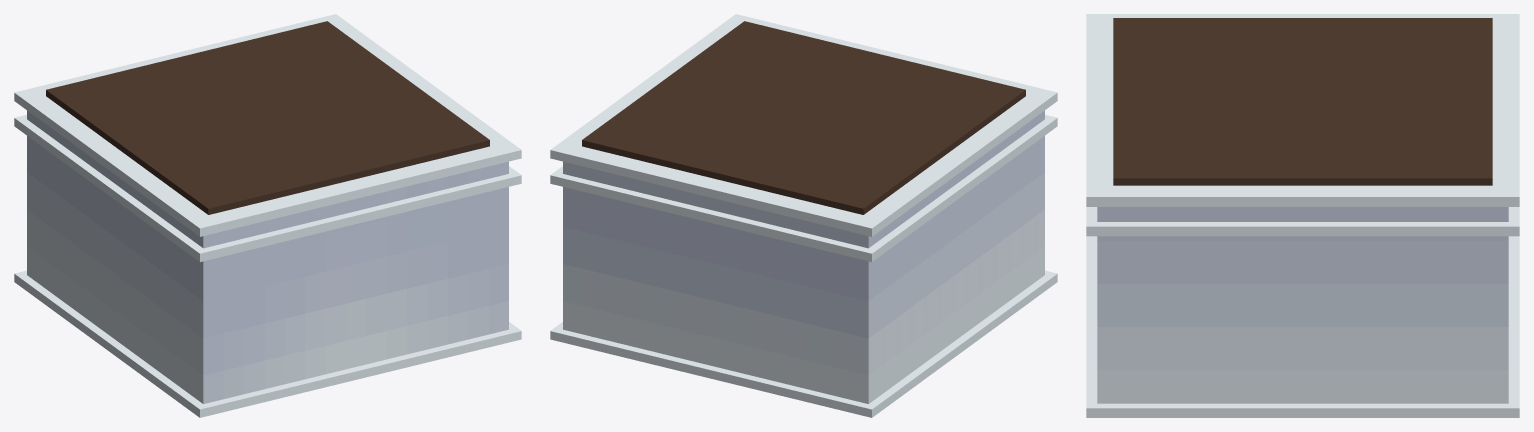
The model's file is Planting Bed.gltf.
3 views of the same model, side by side, from view 1: azimuth 30°, elevation 25°; view 2: azimuth 150°, elevation 25°; view 3: azimuth 270°, elevation 25° (orthographic). The views are drawn at different scales.
Visible parts, largest first — view 1: cube (×5); view 2: cube (×5); view 3: cube (×5).
Part boxes in pixels (x1,y1,x2,y2): cube (×5): [14, 14, 521, 417]; cube (×5): [550, 14, 1057, 417]; cube (×5): [1086, 14, 1519, 417].
Bounding box in the file's own units: 0.25 × 0.1453 × 0.25.
Materials: 1 (1 with a texture image).
